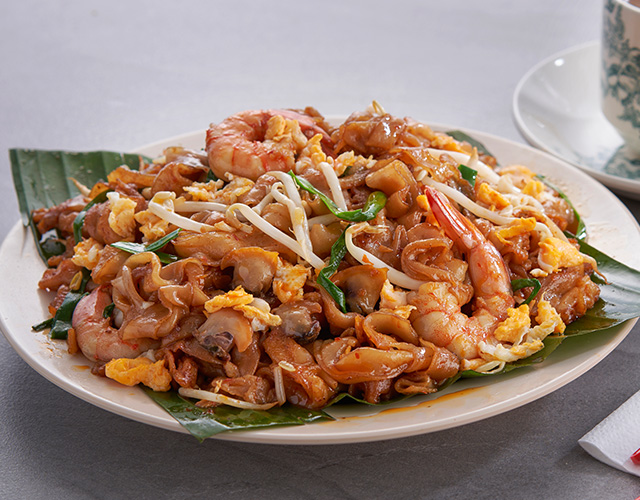Char Kway Teow: (26, 97, 598, 399)
